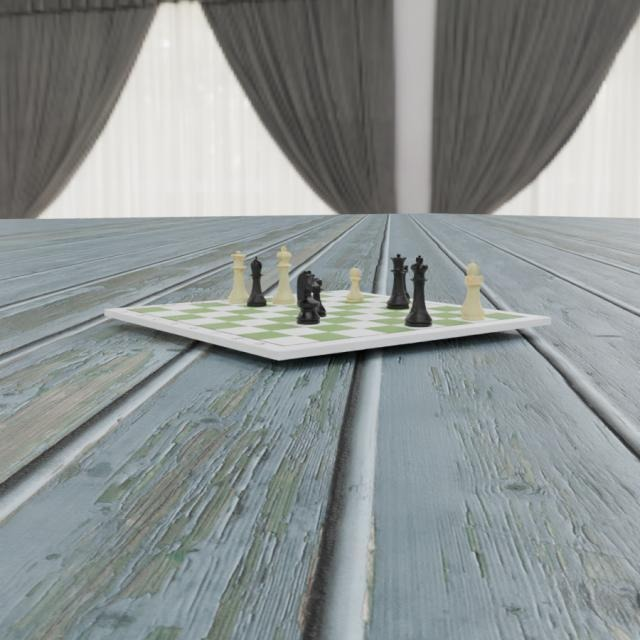black-bishop: (245, 255, 266, 307)
black-king: (404, 253, 433, 327)
black-knight: (295, 269, 320, 324)
black-pawn: (307, 276, 327, 318)
black-queen: (385, 253, 410, 311)
black-rook: (392, 264, 410, 304)
white-king: (271, 244, 296, 306)
white-pawn: (344, 265, 363, 304)
white-queen: (229, 250, 251, 302)
white-rook: (461, 274, 487, 322)
